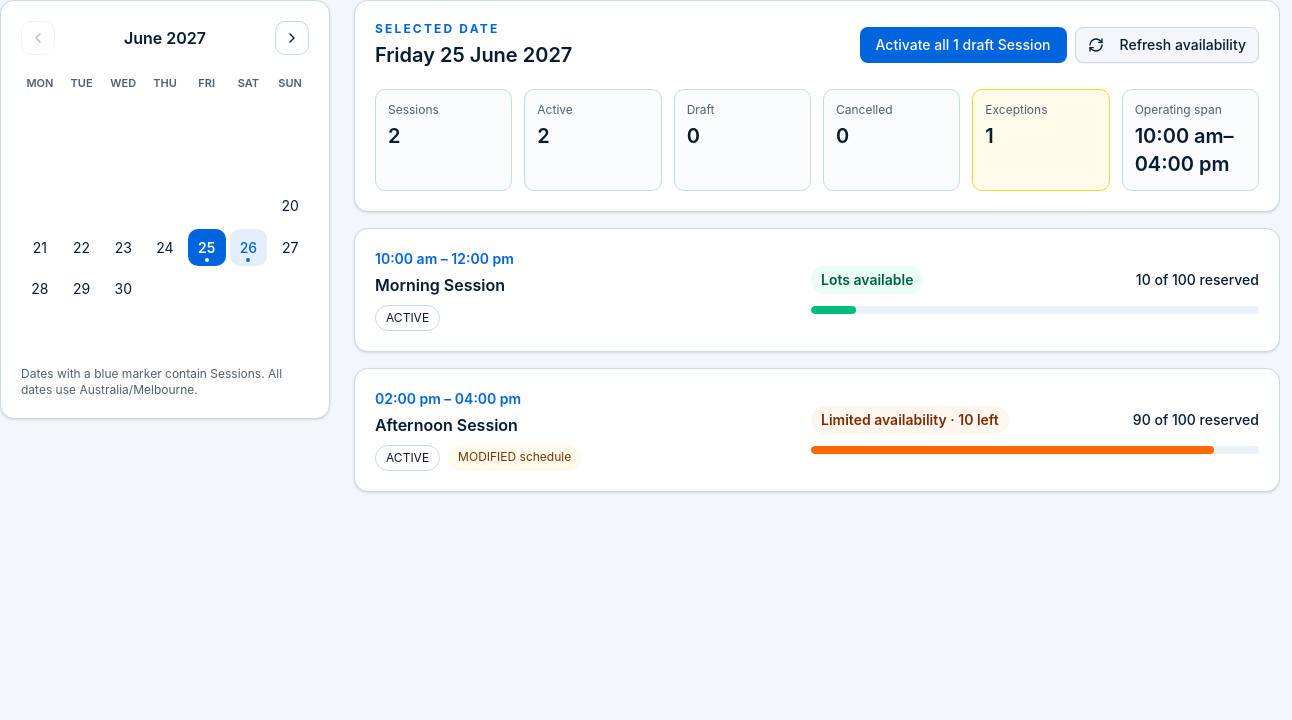
SessionsTimeline › changes date and exposes sold-out status without relying on colour
The width and height of the screenshot is (1292, 720).
Expected: the heading "Morning Session" is shown, top-left (375, 273), bottom-right (514, 297)
Click the button named "26 June 2027, 1 Sessions". click: click(248, 248)
box: top-left (230, 229), bottom-right (267, 266)
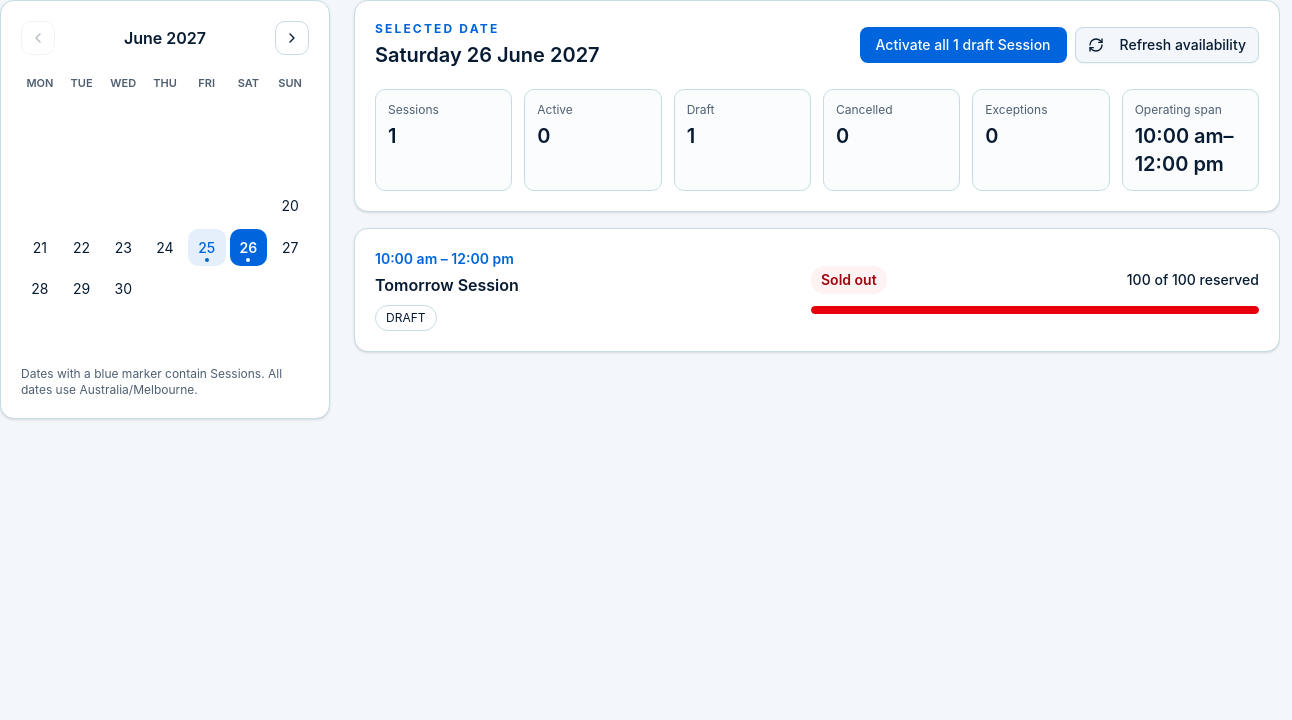
Expected: the heading "Tomorrow Session" is shown, top-left (375, 273), bottom-right (519, 297)
Expected: the text "Sold out" is shown, top-left (811, 266), bottom-right (887, 294)
Expected: the text "100 of 100 reserved" is shown, top-left (1127, 270), bottom-right (1259, 290)
